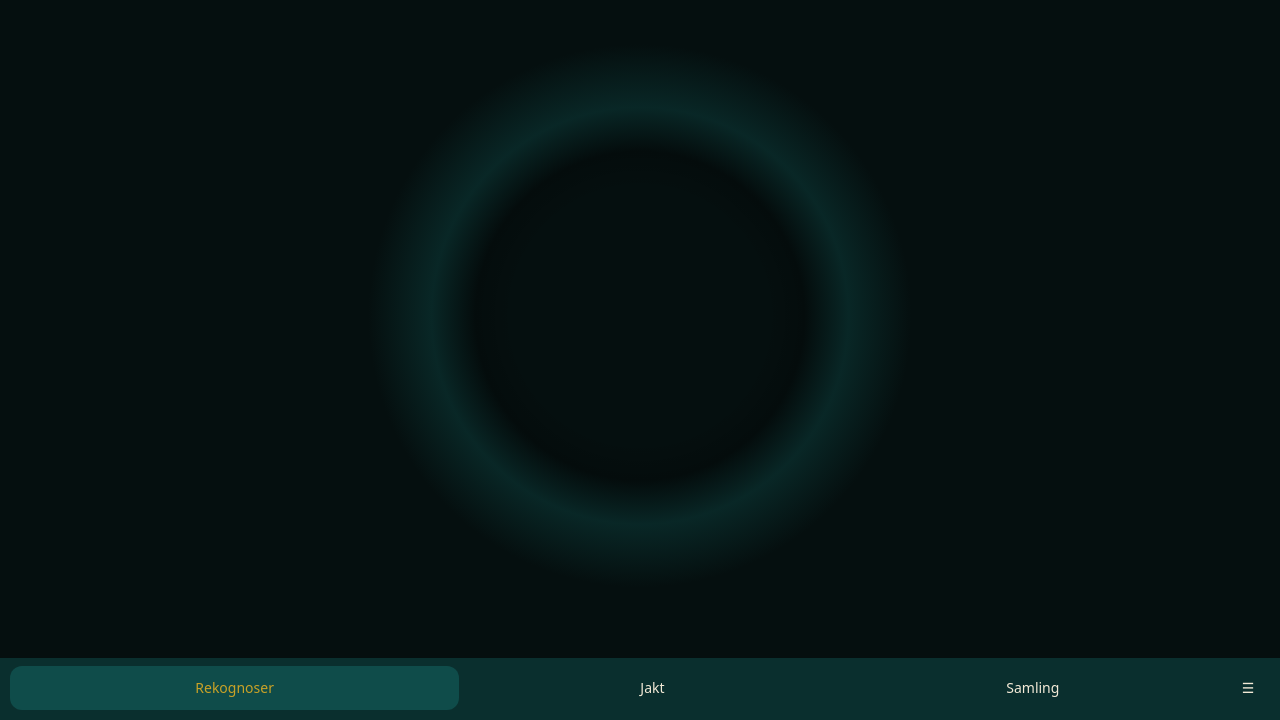
Test case: keeps the hamburger menu in front of Rekognoser layers
Step 1. Click the button named "Meny" → (1248, 688), box [1226,666,1270,710]
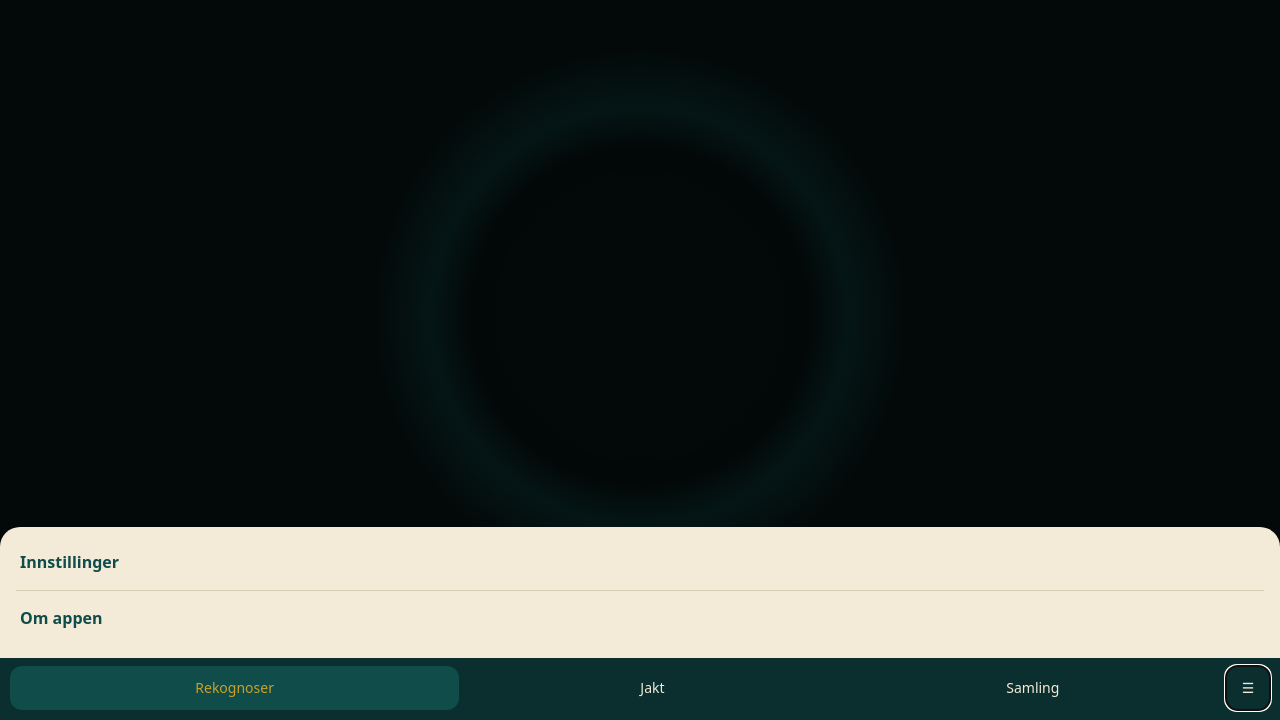
Expected: the dialog named "Meny" is shown, [0,527,1279,662]
